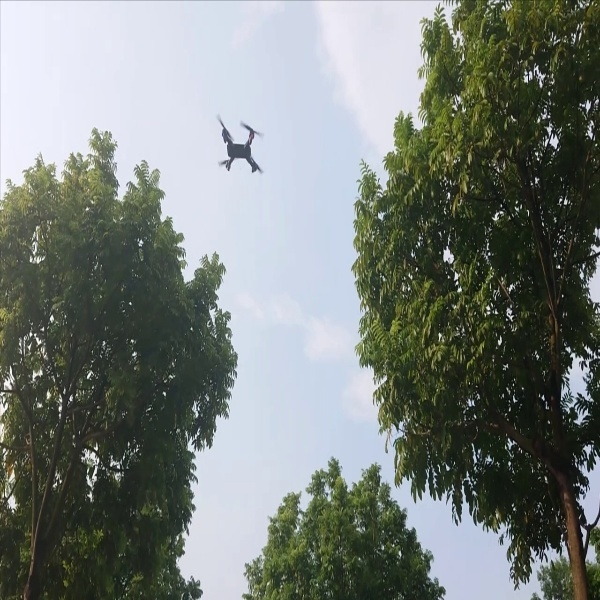drone: (204, 110, 268, 176)
